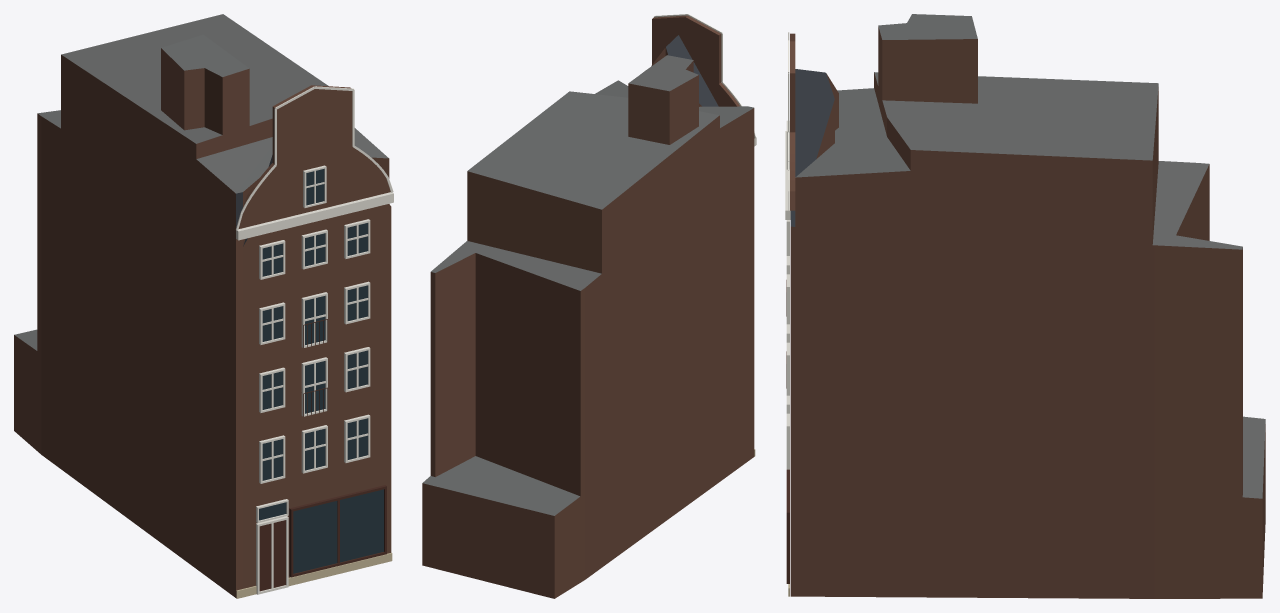
Rendered from recipe-bilder-157154.glb.
3 renders of one model, left to right at view 1: azimuth 30°, elevation 25°; view 2: azimuth 150°, elevation 25°; view 3: azimuth 270°, elevation 25°, orthographic. The views are drawn at different scales.
Parts seen in each view (by area): view 1: bilder-157154; view 2: bilder-157154; view 3: bilder-157154.
Part boxes in pixels (bbox=[...]): bilder-157154: bbox=[14, 14, 393, 598]; bilder-157154: bbox=[422, 14, 756, 598]; bilder-157154: bbox=[785, 14, 1265, 598].
Bounding box in the file's own units: 6.5 × 19.03 × 16.04.
